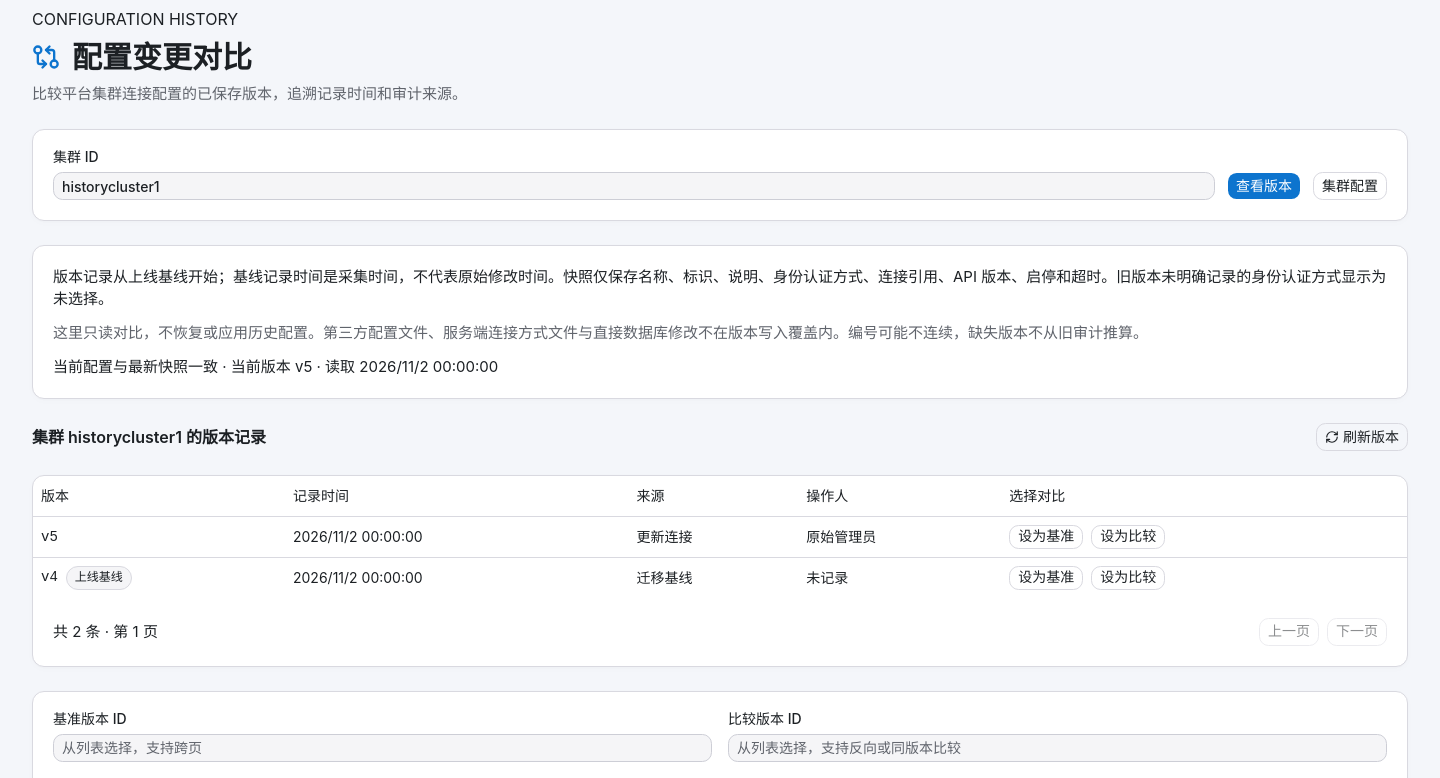
Test: reads versions only until two explicit versions are selected, then compares without writes
The width and height of the screenshot is (1440, 778).
Check: the element named "配置版本列表" is shown, box [32,475,1408,666]
Click the button with aria-label "以 v4 为基准" at [1046, 578], box [1009,566,1083,590]
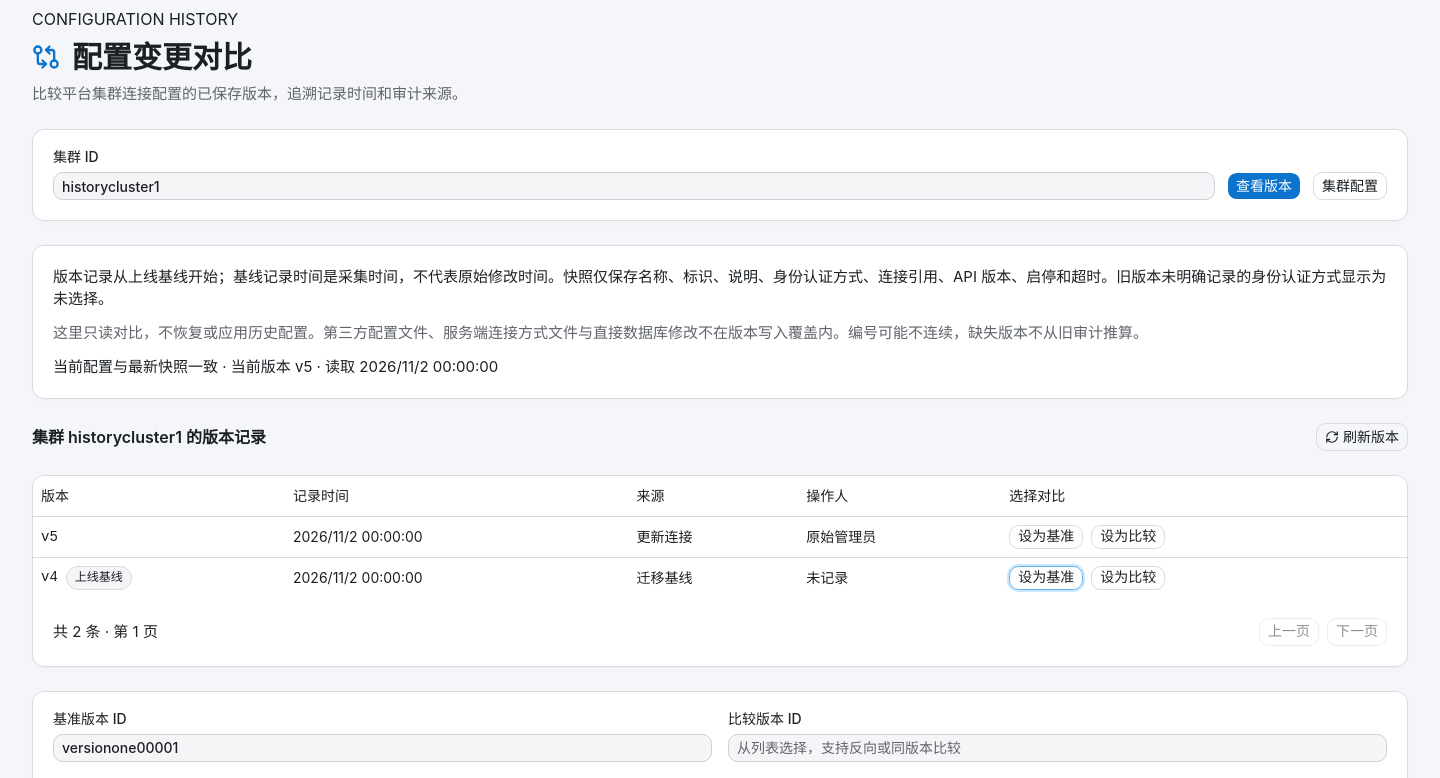
Click the button with aria-label "以 v5 为比较版本" at [1128, 536], box [1091,524,1165,548]
(page scrolled)
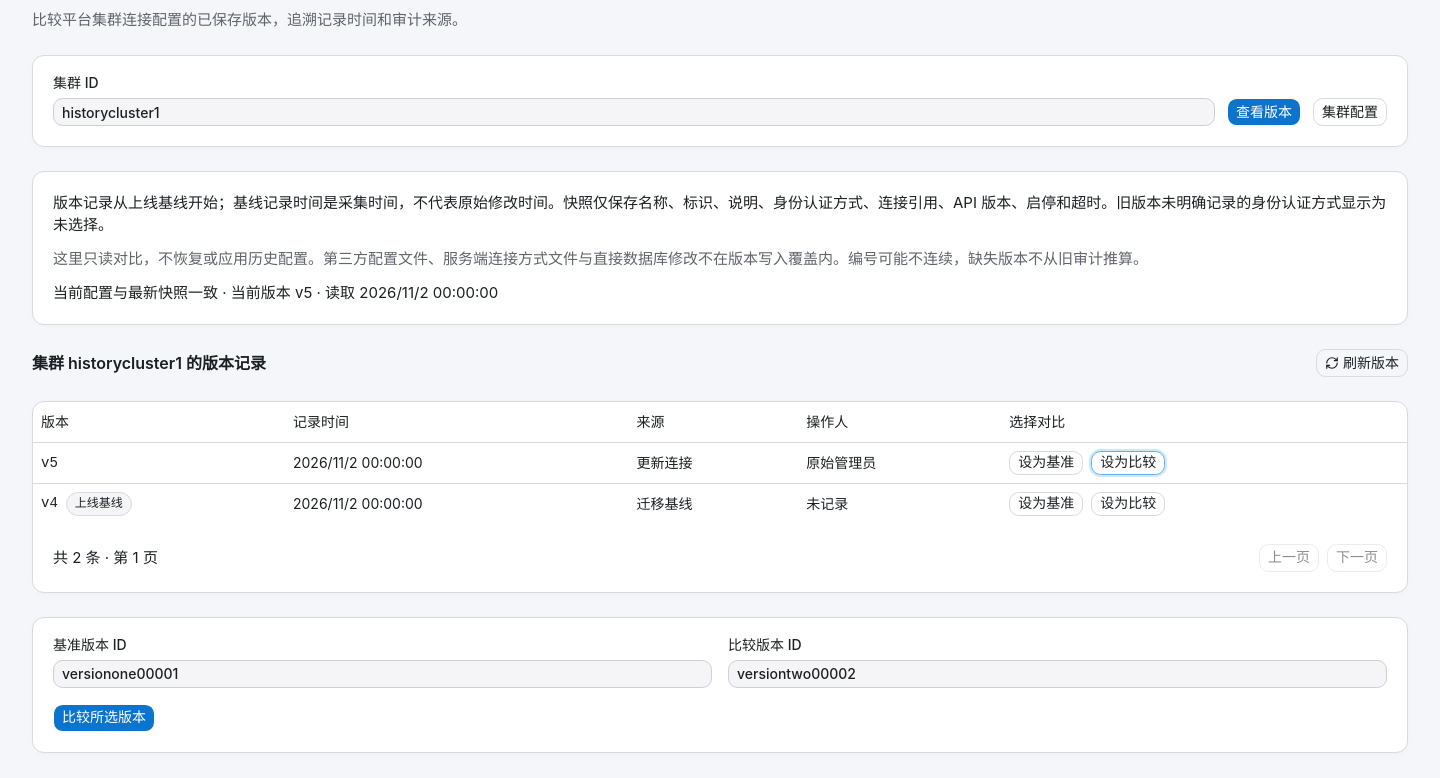
Click the button "比较所选版本" at [104, 718], box [53,704,155,732]
(page scrolled)
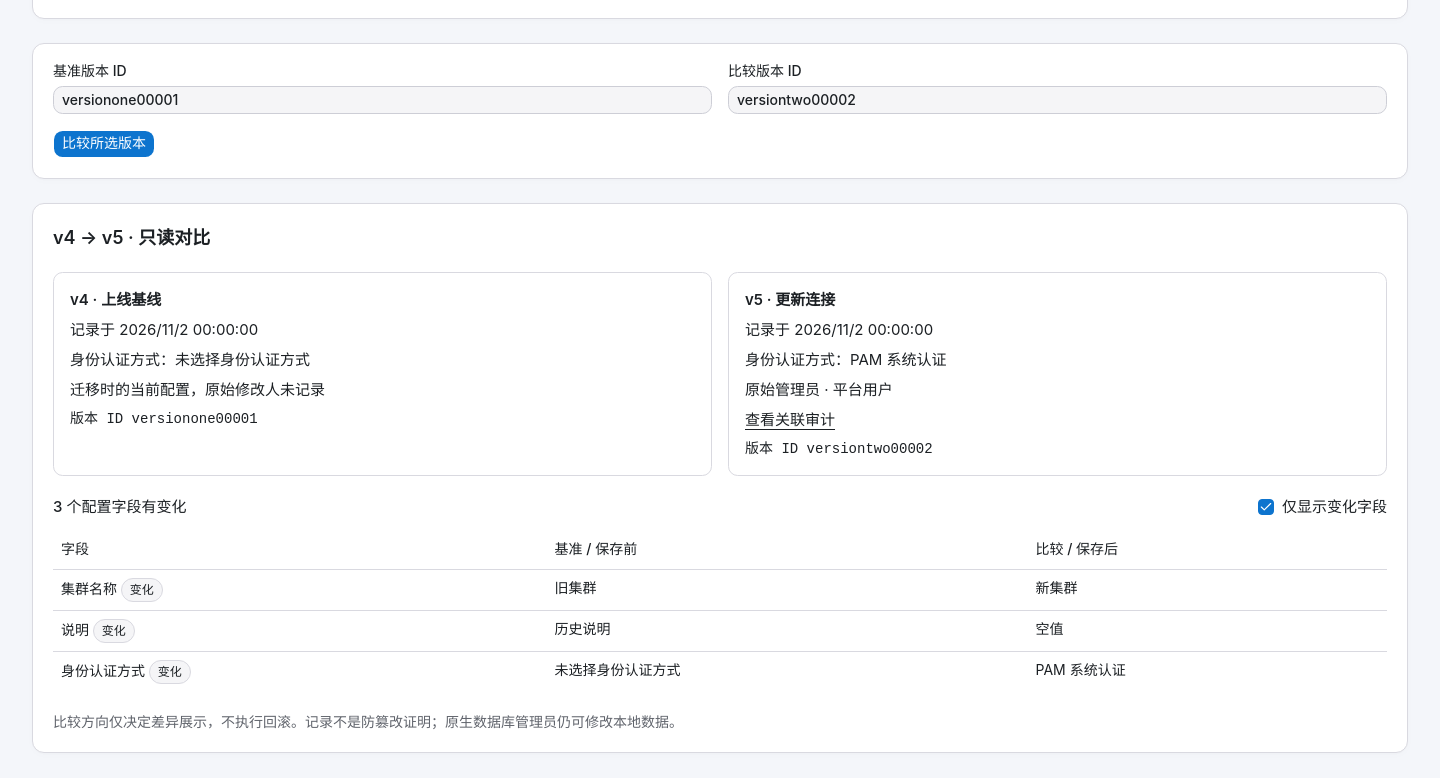
Check: the element named "历史配置对比结果" shows "历史说明", box [555,620,611,637]
Check: the element named "历史配置对比结果" shows "空值", box [1036,620,1064,637]
Check: the element named "历史配置对比结果" shows "原始修改人未记录", box [70,380,325,398]
